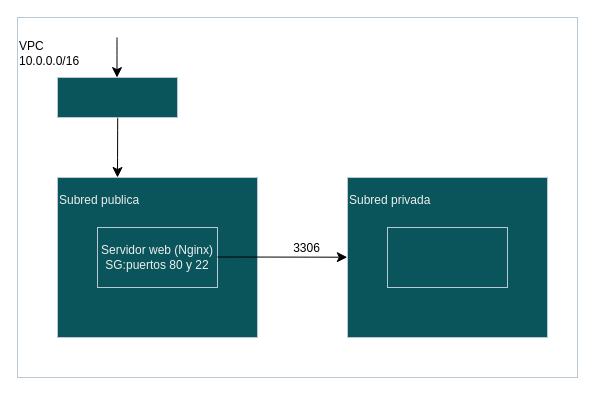
Some shapes in this 595 by 395 pixel diagram are drawn without their labels. Here are the shapes that lost their labels. From the top down, the centre of each, then its label:
At point 117,97: "Internet Getaway".
At point 447,257: "Base de datos (MySQL) solo trafico interno".
